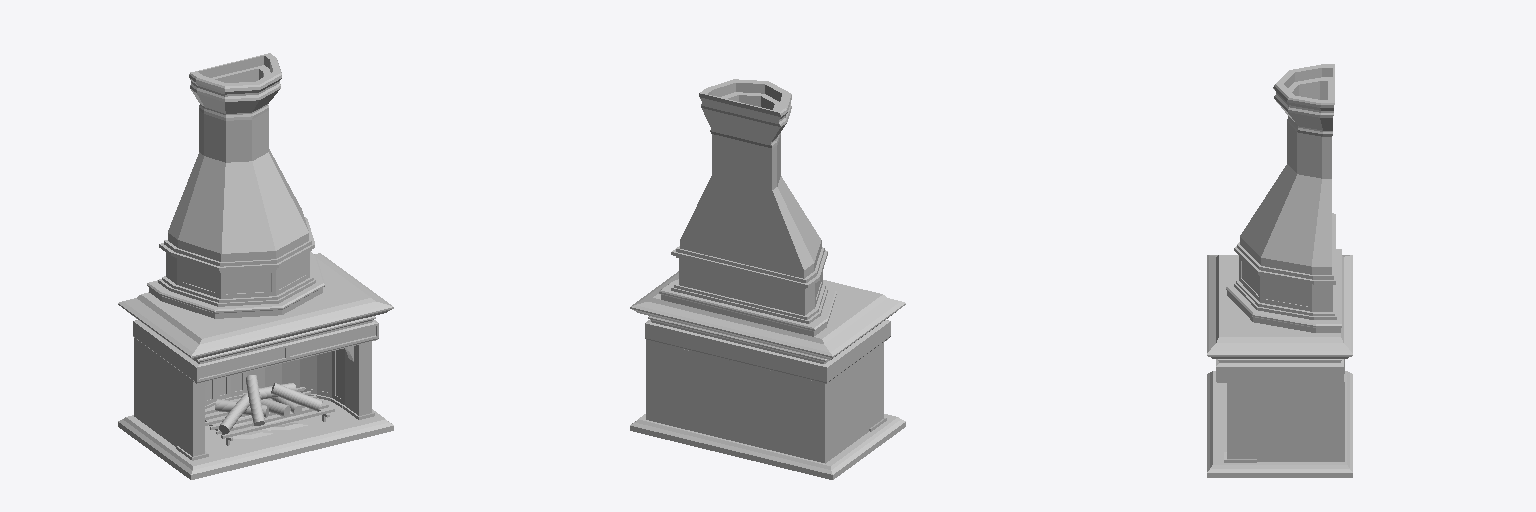
Rendered from MedievalFirePlace.obj.
3 views of the same model, side by side, from view 1: azimuth 30°, elevation 25°; view 2: azimuth 150°, elevation 25°; view 3: azimuth 270°, elevation 25° (orthographic).
Visible parts, largest first — view 1: TopSection_TopSection, MiddleSection_MiddleSection, LowerSection_LowerSection, BottomSection_BottomSection, Logs_Logs, Rack_Rack, Ashes_Ashes; view 2: TopSection_TopSection, LowerSection_LowerSection, MiddleSection_MiddleSection, BottomSection_BottomSection; view 3: TopSection_TopSection, MiddleSection_MiddleSection, LowerSection_LowerSection, BottomSection_BottomSection.
Boxes of the visible parts, box(x1,y1,x2,y2) form: TopSection_TopSection: box(147, 53, 324, 318); MiddleSection_MiddleSection: box(118, 253, 393, 383); LowerSection_LowerSection: box(134, 338, 374, 460); BottomSection_BottomSection: box(118, 398, 393, 479); Logs_Logs: box(215, 375, 321, 433); Rack_Rack: box(205, 387, 334, 445); Ashes_Ashes: box(209, 409, 307, 438); TopSection_TopSection: box(659, 79, 836, 336); LowerSection_LowerSection: box(646, 340, 886, 463); MiddleSection_MiddleSection: box(630, 271, 905, 383); BottomSection_BottomSection: box(630, 414, 905, 479); TopSection_TopSection: box(1226, 64, 1341, 332); MiddleSection_MiddleSection: box(1207, 255, 1352, 382); LowerSection_LowerSection: box(1224, 359, 1344, 462); BottomSection_BottomSection: box(1207, 371, 1352, 477).
Bounding box in the file's own units: 200 × 325 × 125.